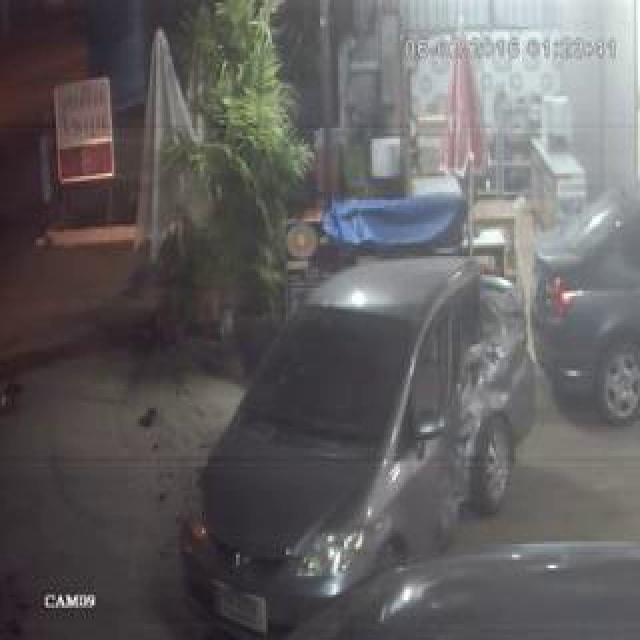road accidents: (370, 126, 626, 602)
